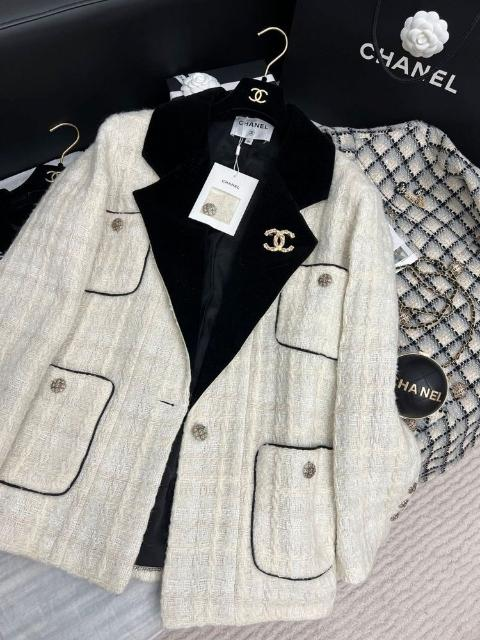Chanel: (352, 33, 464, 107), (391, 368, 443, 410), (258, 222, 304, 258), (232, 111, 278, 141), (242, 79, 282, 107), (40, 166, 64, 186)
